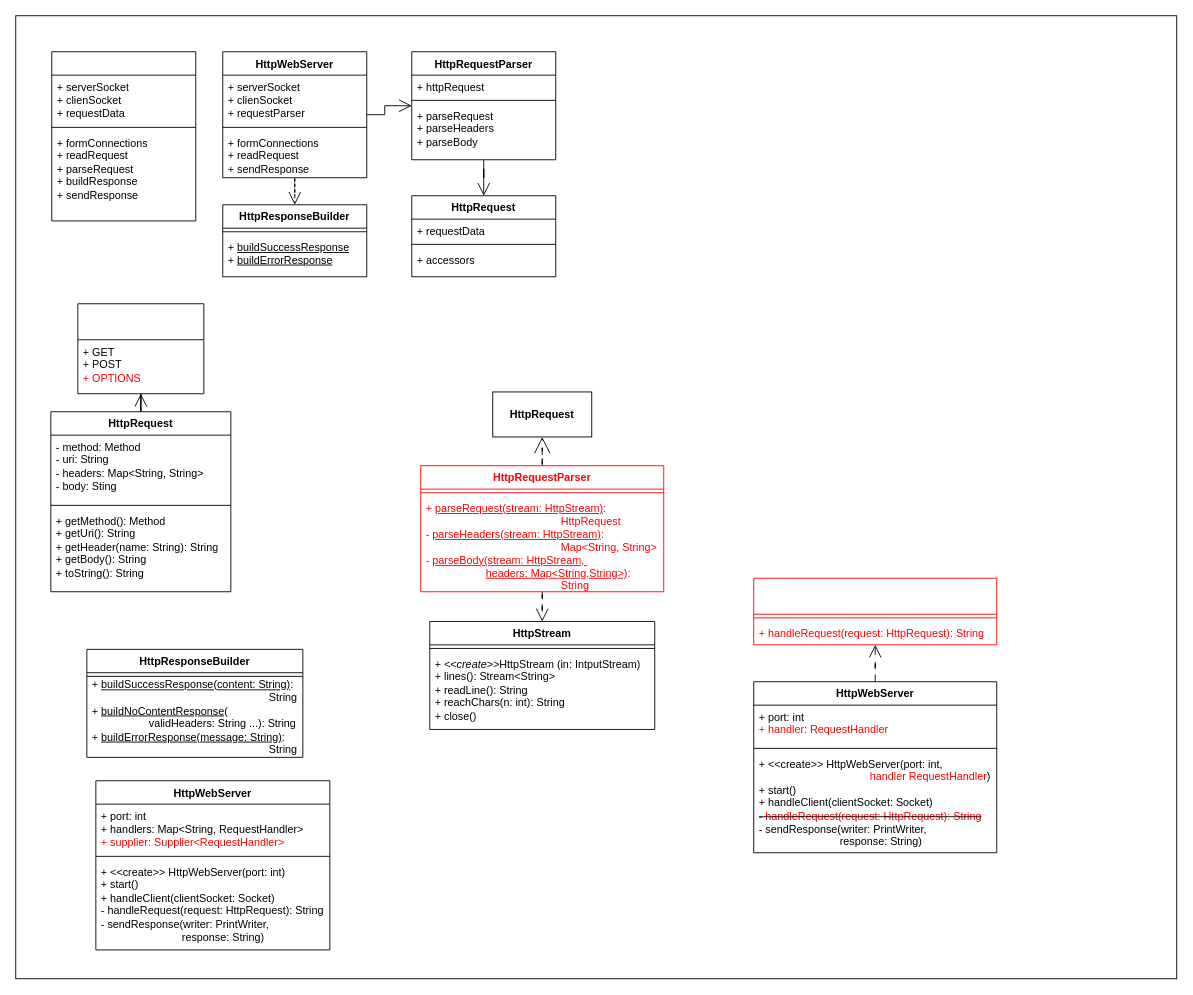
This 1193x995 diagram has some shape labels left out. Each missing label, with the box of its shape:
<<enum>> Method: (77, 303, 204, 394)
<<interface>>> RequestHandler: (753, 577, 997, 645)
BlobServer: (51, 51, 196, 221)
